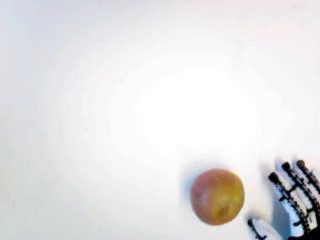apple: (194, 166, 244, 225)
hand: (250, 158, 320, 240)
